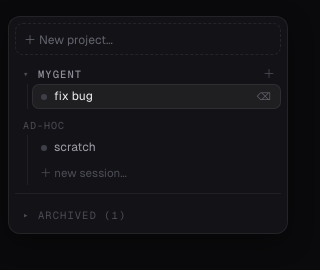
it: ProjectsMenu › archive action posts; 409 shows a transient inline error
This screenshot has width=320, height=270.
Click the button named "Archive fix bug" at (264, 96), box [252,88,276,106]
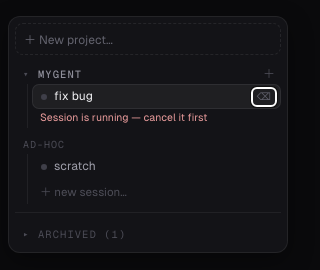
Expected: the text "Session is running — cancel it first" is shown, [40,111,207,123]
